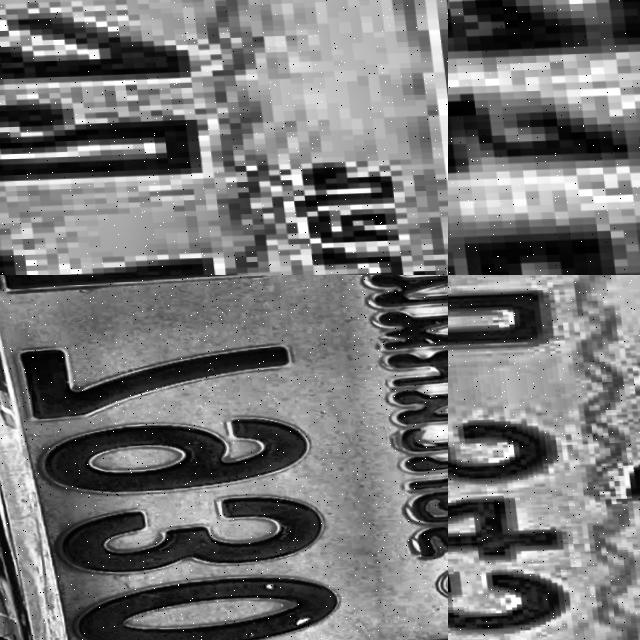license-plate: (0, 275, 448, 640), (0, 0, 448, 275), (448, 275, 640, 640), (448, 0, 640, 275)
